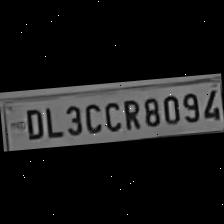0: (159, 90, 181, 126)
3: (60, 99, 83, 136)
4: (198, 84, 220, 121)
8: (138, 92, 162, 127)
9: (178, 88, 199, 124)
C: (80, 98, 102, 134), (99, 96, 121, 132)
D: (20, 104, 43, 140)
L: (40, 102, 61, 139)
R: (118, 94, 140, 131)
